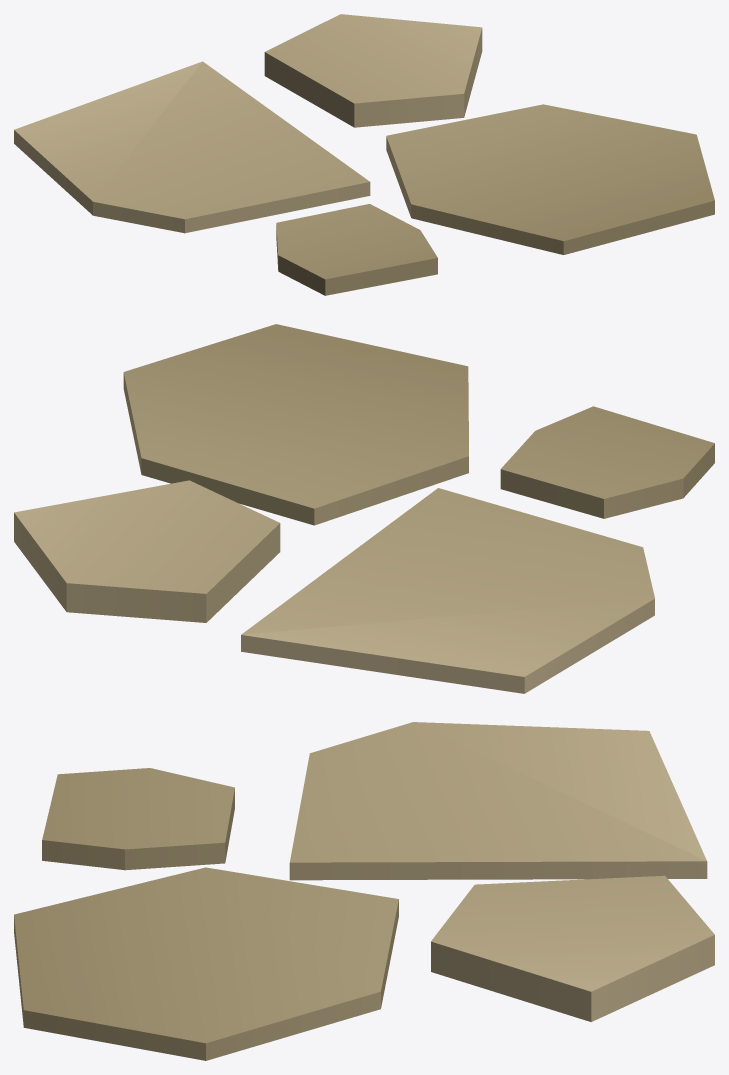
The model's file is Road_Stone_S.fbx.
3 renders of one model, top to bottom at view 1: azimuth 30°, elevation 25°; view 2: azimuth 150°, elevation 25°; view 3: azimuth 270°, elevation 25°, orthographic. The views are drawn at different scales.
Parts seen in each view (by area): view 1: Road_Piece_A.001, Road_Piece_D.001, Road_Piece_B.001, Road_Piece_C.001; view 2: Road_Piece_A.001, Road_Piece_D.001, Road_Piece_B.001, Road_Piece_C.001; view 3: Road_Piece_A.001, Road_Piece_D.001, Road_Piece_B.001, Road_Piece_C.001.
Part boxes in pixels (left/top/right/bottom): Road_Piece_A.001: left=14, top=61, right=370, bottom=233; Road_Piece_D.001: left=386, top=104, right=714, bottom=254; Road_Piece_B.001: left=264, top=14, right=482, bottom=127; Road_Piece_C.001: left=276, top=204, right=437, bottom=295; Road_Piece_A.001: left=241, top=488, right=654, bottom=693; Road_Piece_D.001: left=123, top=324, right=468, bottom=525; Road_Piece_B.001: left=14, top=480, right=280, bottom=622; Road_Piece_C.001: left=500, top=406, right=714, bottom=518; Road_Piece_A.001: left=289, top=722, right=707, bottom=880; Road_Piece_D.001: left=14, top=867, right=398, bottom=1060; Road_Piece_B.001: left=431, top=875, right=714, bottom=1021; Road_Piece_C.001: left=42, top=768, right=234, bottom=870.
Bounding box in the file's own units: 2.9 × 0.1308 × 2.68.
1 material, 1 textured.
